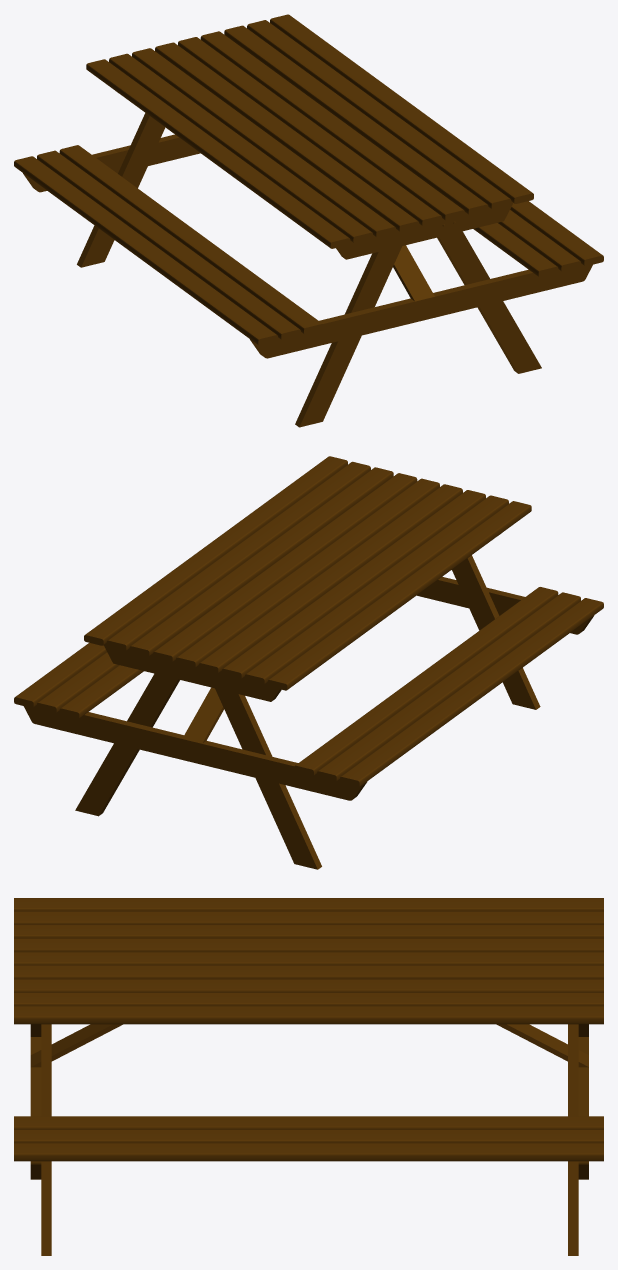
File: Table.fbx
3 renders of one model, top to bottom at view 1: azimuth 30°, elevation 25°; view 2: azimuth 150°, elevation 25°; view 3: azimuth 270°, elevation 25°, orthographic. The views are drawn at different scales.
Parts seen in each view (by area): view 1: Table1, pCube15, pCube6, pCube9, pCube12, pCube4, pCube8, pCube10, pCube14, pCube11, pCube5, pCube7 (+4 smaller); view 2: Table1, pCube15, pCube6, pCube9, pCube12, pCube11, pCube8, pCube4, pCube10, pCube5, pCube14, pCube7 (+4 smaller); view 3: pCube7, pCube1, pCube10, pCube12, Table1, pCube9, pCube8, pCube14, pCube15, pCube11, pCube13, pCube2 (+1 smaller).
Boxes of the visible parts, <box> form: Table1: <box>23,113,592,427</box>; pCube15: <box>86,59,350,248</box>; pCube6: <box>14,156,277,345</box>; pCube9: <box>224,25,488,215</box>; pCube12: <box>155,42,419,231</box>; pCube4: <box>59,145,323,334</box>; pCube8: <box>247,20,511,209</box>; pCube10: <box>200,31,464,220</box>; pCube14: <box>109,53,372,243</box>; pCube11: <box>178,37,441,226</box>; pCube5: <box>37,150,300,340</box>; pCube7: <box>270,14,533,203</box>; Table1: <box>23,555,594,869</box>; pCube15: <box>267,501,531,690</box>; pCube6: <box>340,598,603,787</box>; pCube9: <box>129,467,393,656</box>; pCube12: <box>198,484,462,673</box>; pCube11: <box>176,478,439,668</box>; pCube8: <box>106,461,370,651</box>; pCube4: <box>294,587,558,776</box>; pCube10: <box>153,473,417,662</box>; pCube5: <box>317,592,580,781</box>; pCube14: <box>245,495,508,684</box>; pCube7: <box>84,456,347,645</box>; pCube7: <box>14,1006,603,1024</box>; pCube1: <box>14,1143,603,1161</box>; pCube10: <box>14,965,603,979</box>; pCube12: <box>14,938,603,952</box>; Table1: <box>30,1024,588,1255</box>; pCube9: <box>14,979,603,992</box>; pCube8: <box>14,993,603,1006</box>; pCube14: <box>14,911,603,924</box>; pCube15: <box>14,898,603,911</box>; pCube11: <box>14,952,603,965</box>; pCube13: <box>14,925,603,938</box>; pCube2: <box>14,1130,603,1143</box>.
Bounding box in the file's own units: 233 × 121 × 285.
